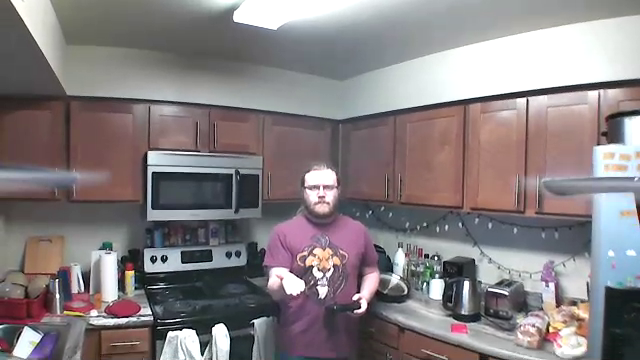land: (273, 270, 307, 299)
